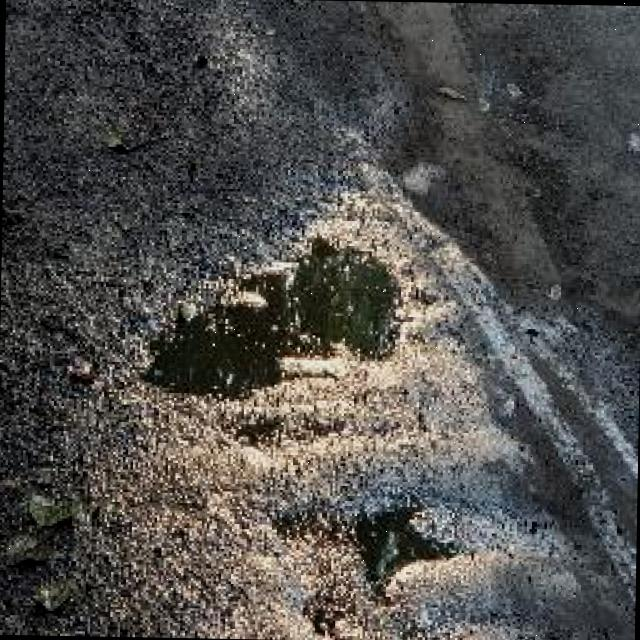waterlogging: (300, 483, 477, 602)
